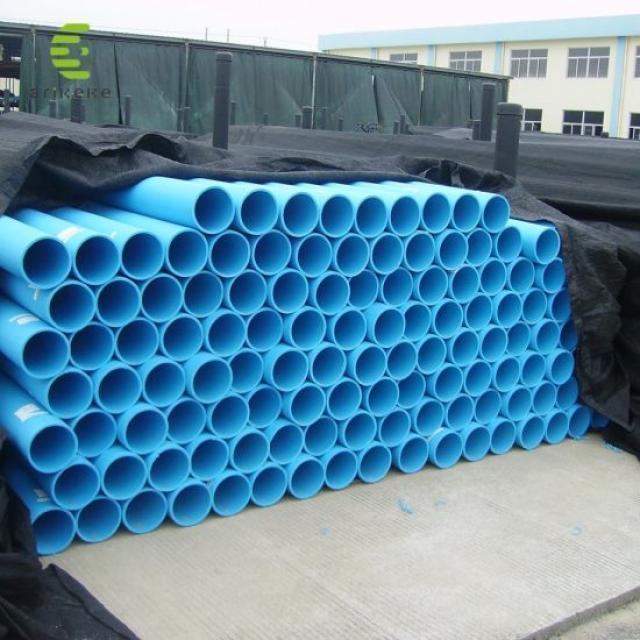pipe: (21, 237, 74, 292), (47, 369, 94, 421), (27, 426, 76, 473), (23, 329, 70, 377), (75, 239, 122, 286), (100, 456, 147, 503), (97, 277, 142, 326), (97, 364, 140, 415), (48, 283, 95, 329), (121, 232, 166, 280), (139, 275, 184, 321), (54, 465, 99, 510), (71, 325, 114, 372), (143, 363, 188, 407), (167, 231, 209, 278), (159, 321, 206, 363), (116, 318, 159, 363), (74, 413, 117, 457), (34, 511, 77, 554), (124, 411, 168, 453), (270, 267, 309, 314), (122, 493, 169, 532), (209, 231, 250, 275), (269, 347, 310, 391), (77, 500, 122, 540), (239, 192, 280, 235), (169, 484, 213, 524), (167, 401, 206, 446), (213, 474, 253, 517), (183, 271, 222, 315), (229, 269, 266, 315), (280, 193, 320, 235), (197, 188, 236, 231), (255, 231, 292, 275), (211, 313, 246, 359), (210, 398, 249, 439), (192, 437, 229, 480), (249, 306, 284, 351), (151, 451, 190, 491), (294, 237, 332, 276), (195, 361, 231, 401), (322, 195, 357, 236), (286, 389, 327, 424), (231, 348, 262, 394), (252, 470, 290, 507), (336, 235, 369, 277), (332, 312, 367, 351), (232, 435, 267, 474), (355, 196, 389, 236), (291, 462, 326, 500), (327, 380, 361, 419), (305, 418, 338, 458), (386, 340, 418, 381), (292, 310, 326, 348), (316, 275, 349, 314), (406, 229, 437, 270), (390, 194, 420, 235), (249, 389, 282, 426), (414, 337, 445, 376), (482, 193, 510, 236), (380, 271, 413, 307), (271, 426, 303, 463), (314, 348, 346, 385), (433, 432, 465, 469), (358, 447, 392, 481), (371, 238, 402, 275), (326, 453, 357, 490), (368, 380, 398, 418), (416, 269, 448, 304), (356, 348, 388, 383), (412, 401, 444, 436), (349, 273, 380, 309), (345, 413, 375, 450), (438, 233, 470, 267), (423, 196, 452, 233), (381, 409, 410, 446), (454, 193, 480, 234), (464, 231, 494, 266), (451, 267, 481, 302), (400, 438, 428, 475), (373, 311, 405, 343), (433, 367, 465, 399), (431, 306, 463, 337), (463, 428, 494, 460), (533, 228, 561, 263), (404, 304, 432, 339), (533, 382, 561, 417), (452, 329, 478, 366), (480, 329, 506, 365), (497, 227, 525, 260), (395, 378, 426, 407), (494, 357, 522, 389), (538, 261, 566, 292), (494, 296, 522, 327), (466, 296, 492, 329), (481, 260, 505, 295), (506, 261, 534, 291), (468, 362, 492, 397), (551, 350, 573, 387), (546, 409, 571, 441), (449, 401, 475, 431), (536, 323, 561, 353), (478, 391, 501, 423), (521, 421, 545, 451), (491, 424, 515, 454), (508, 388, 530, 420), (571, 407, 593, 439), (519, 358, 545, 385), (550, 294, 573, 322), (525, 293, 545, 323), (509, 326, 528, 355)
